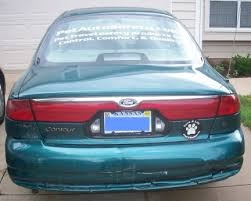Dent: (199, 153, 244, 178)
Scratch: (97, 164, 172, 178)
